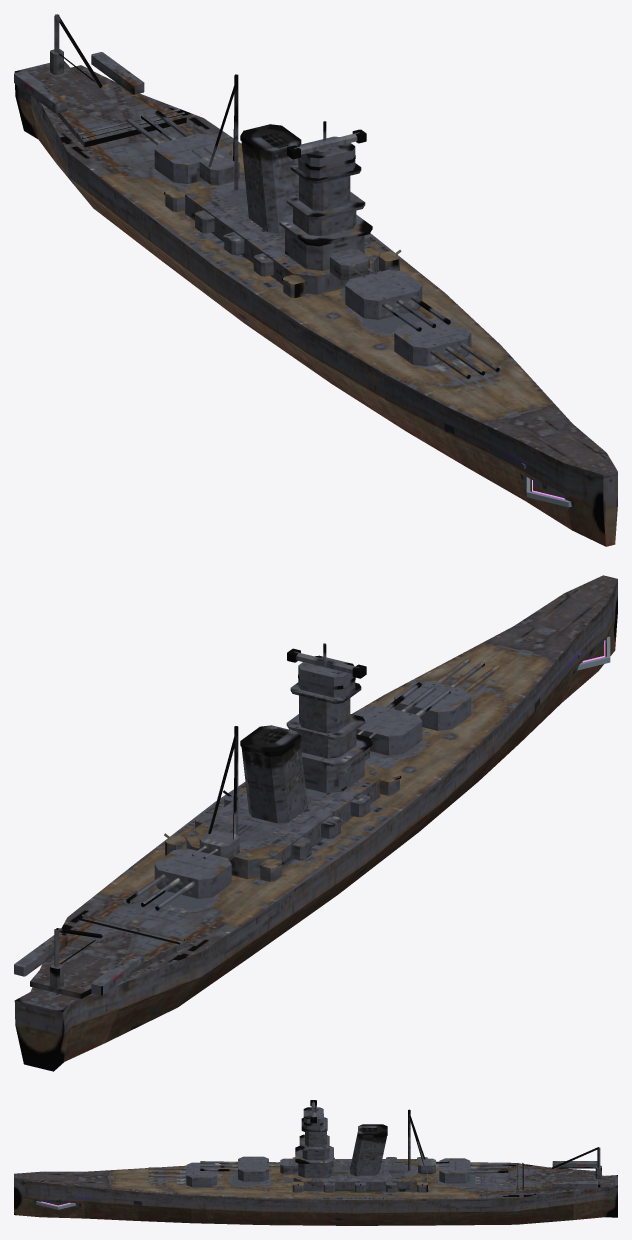
Rendered from simple-medium-deployment.glb.
The picture shows the model from 3 angles, top to bottom: view 1: azimuth 30°, elevation 25°; view 2: azimuth 150°, elevation 25°; view 3: azimuth 270°, elevation 25°; orthographic projection. The views are drawn at different scales.
Parts seen in each view (by area): view 1: New deck outline, simple-medium-lower-shell, simple-medium-upper-shell, Superstructure base, Aft aviation platform, Funnel, Main turret 2, Main turret 1, Main turret 3, Bridge lower, Bridge tower, Bridge top (+8 smaller); view 2: New deck outline, simple-medium-lower-shell, simple-medium-upper-shell, Superstructure base, Aft aviation platform, Funnel, Main turret 3, Main turret 2, Main turret 1, Bridge lower, Bridge tower, Bridge top (+7 smaller); view 3: simple-medium-lower-shell, New deck outline, simple-medium-upper-shell, Superstructure base, Aft aviation platform, Funnel, Main turret 3, Main turret 2, Main turret 1, Bridge lower, Funnel cap, Aft catapult.001 (+8 smaller).
Part boxes in pixels (x1,y1,x2,y2): New deck outline: (15, 61, 617, 474); simple-medium-lower-shell: (15, 87, 617, 546); simple-medium-upper-shell: (14, 71, 617, 501); Superstructure base: (185, 171, 380, 294); Aft aviation platform: (34, 65, 186, 147); Funnel: (241, 141, 298, 233); Main turret 2: (345, 269, 422, 319); Main turret 1: (394, 317, 471, 366); Main turret 3: (154, 133, 231, 183); Bridge lower: (285, 229, 364, 270); Bridge tower: (299, 176, 350, 210); Bridge top: (298, 136, 355, 178); New deck outline: (15, 575, 617, 1011); simple-medium-lower-shell: (15, 606, 617, 1071); simple-medium-upper-shell: (14, 579, 617, 1027); Superstructure base: (185, 766, 380, 879); Aft aviation platform: (30, 917, 186, 998); Funnel: (241, 742, 307, 823); Main turret 3: (154, 848, 231, 898); Main turret 2: (354, 705, 422, 755); Main turret 1: (394, 681, 471, 730); Bridge lower: (302, 751, 364, 793); Bridge tower: (299, 695, 350, 733); Bridge top: (298, 655, 355, 697); simple-medium-lower-shell: (14, 1191, 617, 1225); New deck outline: (14, 1161, 617, 1199); simple-medium-upper-shell: (14, 1177, 617, 1208); Superstructure base: (293, 1159, 426, 1191); Aft aviation platform: (516, 1164, 600, 1193); Funnel: (350, 1132, 386, 1175); Main turret 3: (439, 1158, 470, 1183); Main turret 2: (238, 1156, 268, 1181); Main turret 1: (186, 1162, 217, 1187); Bridge lower: (298, 1162, 333, 1177); Funnel cap: (358, 1124, 387, 1137); Aft catapult.001: (552, 1181, 597, 1188).
Size of the model in its own units: 20.78 by 28.2 by 136.
4 materials, 1 textured.
